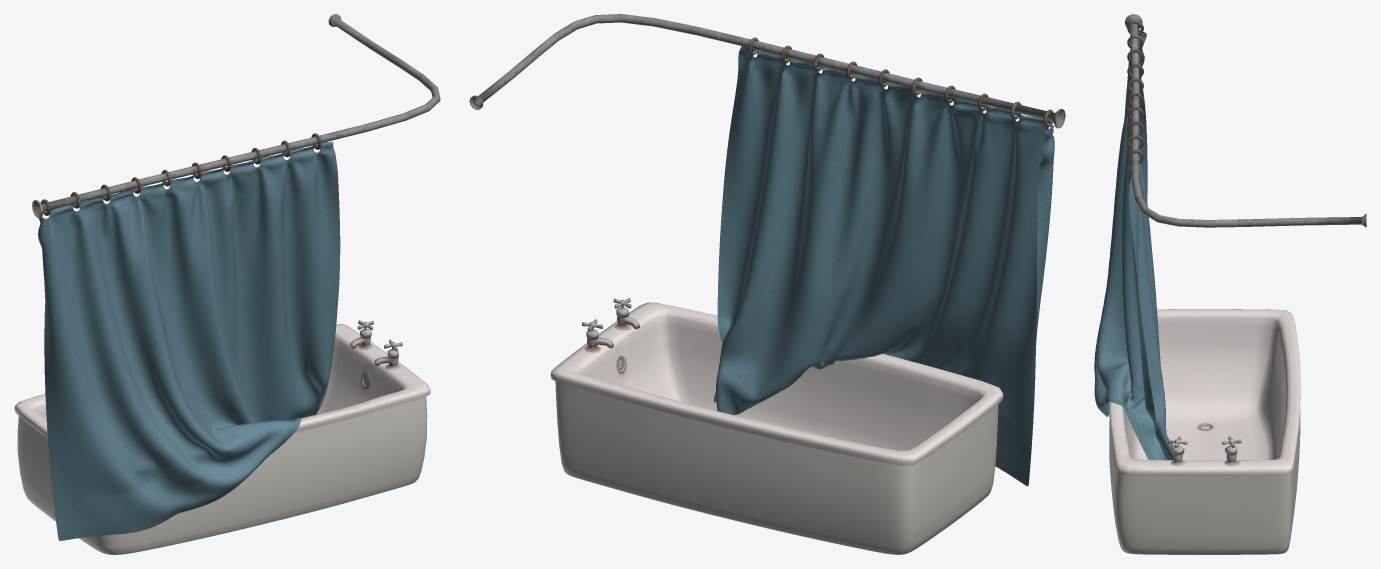
Rendered from bath_and_curtains.glb.
3 views of the same model, side by side, from view 1: azimuth 30°, elevation 25°; view 2: azimuth 150°, elevation 25°; view 3: azimuth 270°, elevation 25° (orthographic). The views are drawn at different scales.
Visible parts, largest first — view 1: BathCurtain, BathSkirt, Bath, CurtainRailing; view 2: BathCurtain, BathSkirt, Bath, CurtainRailing; view 3: Bath, BathCurtain, BathSkirt, CurtainRailing.
Part boxes in pixels (left/top/right/bottom): BathCurtain: left=38, top=141, right=340, bottom=540; BathSkirt: left=17, top=376, right=427, bottom=554; Bath: left=14, top=320, right=430, bottom=438; CurtainRailing: left=32, top=14, right=440, bottom=217; BathCurtain: left=713, top=46, right=1054, bottom=486; BathSkirt: left=555, top=360, right=998, bottom=554; Bath: left=550, top=298, right=1003, bottom=465; CurtainRailing: left=469, top=14, right=1065, bottom=128; Bath: left=1109, top=309, right=1300, bottom=475; BathCurtain: left=1094, top=30, right=1173, bottom=460; BathSkirt: left=1109, top=414, right=1300, bottom=554; CurtainRailing: left=1125, top=14, right=1366, bottom=227.
Bounding box in the file's own units: 1.92 × 1.64 × 1.08.
Materials: 2 (2 with a texture image).
